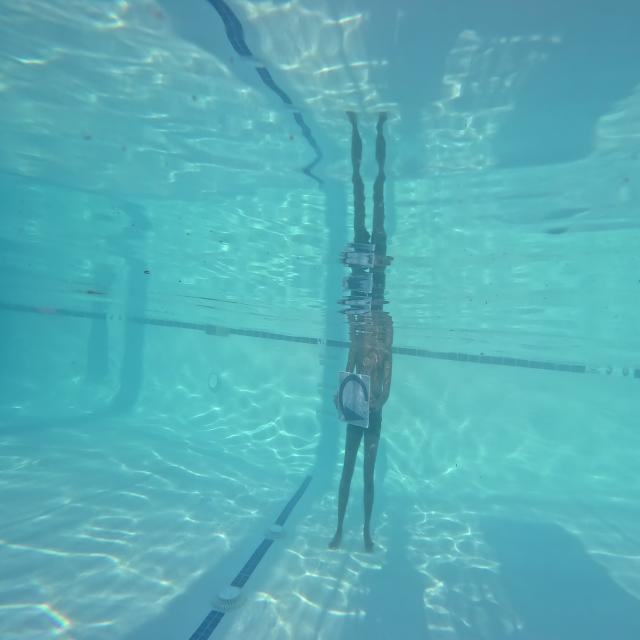blue_side: (338, 368, 371, 427)
